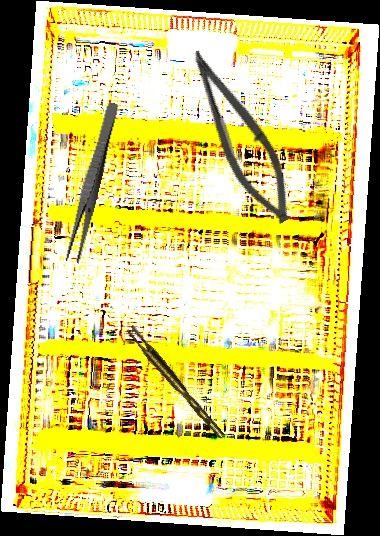Dressing Forceps: (63, 100, 121, 265)
Micro Scissor: (168, 42, 311, 232)
Tissue Forceps: (125, 321, 225, 444)
